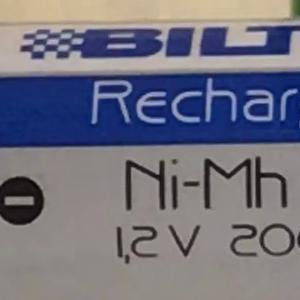keyword: (115, 146, 297, 221)
